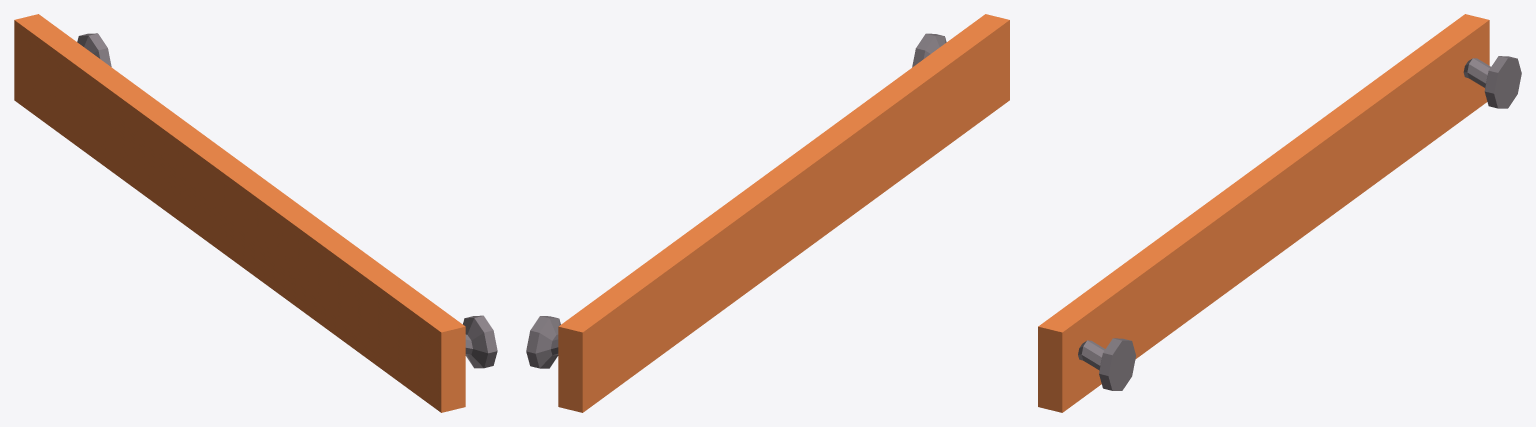
File: boardedup.obj
The picture shows the model from 3 angles, left to right: view 1: azimuth 30°, elevation 25°; view 2: azimuth 150°, elevation 25°; view 3: azimuth 330°, elevation 25°; orthographic projection.
Parts seen in each view (by area): view 1: Cylinder.001; view 2: Cylinder.001; view 3: Cylinder.001.
Boxes of the visible parts, x1,y1,x2,y2 form: Cylinder.001: (14, 14, 497, 412); Cylinder.001: (526, 14, 1009, 412); Cylinder.001: (1038, 14, 1521, 412).
Bounding box in the file's own units: 0.4502 × 0.5468 × 5.26.
1 material, 1 textured.
